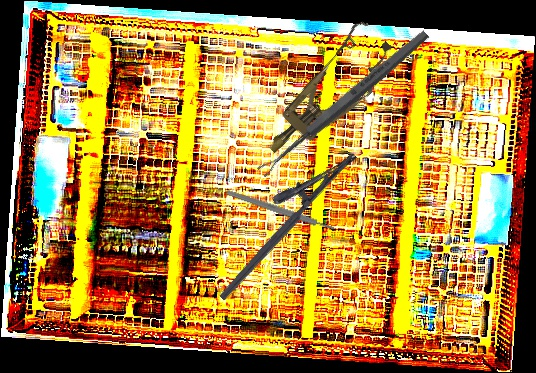Needle Holder: (198, 133, 359, 302)
Scalpel Handle: (225, 188, 336, 233)
Speculum: (249, 15, 405, 173)
Surgical Spoon: (255, 27, 432, 179)
